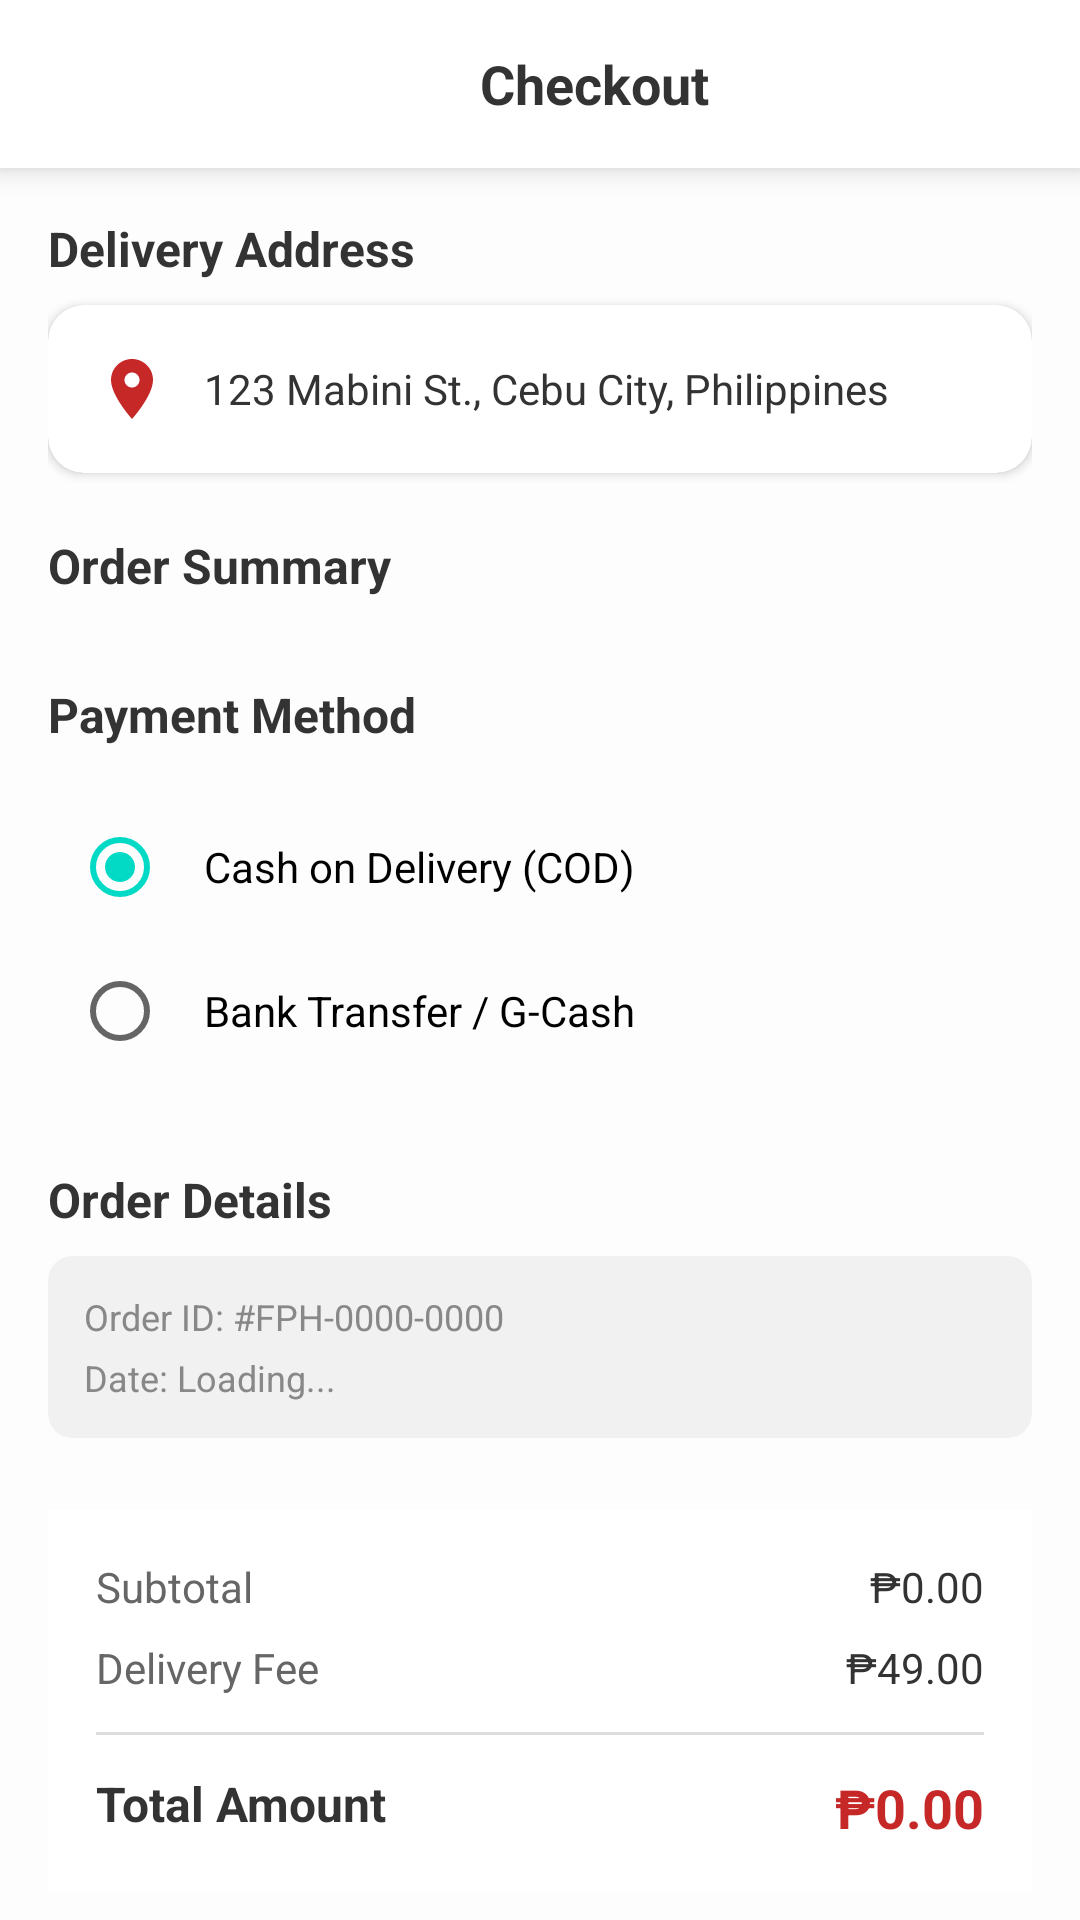

Named icons in this screenshot (1080 x 1920) and their bounding boxes, (x1, y1, x2, y2):
location: (111, 359, 153, 419)
